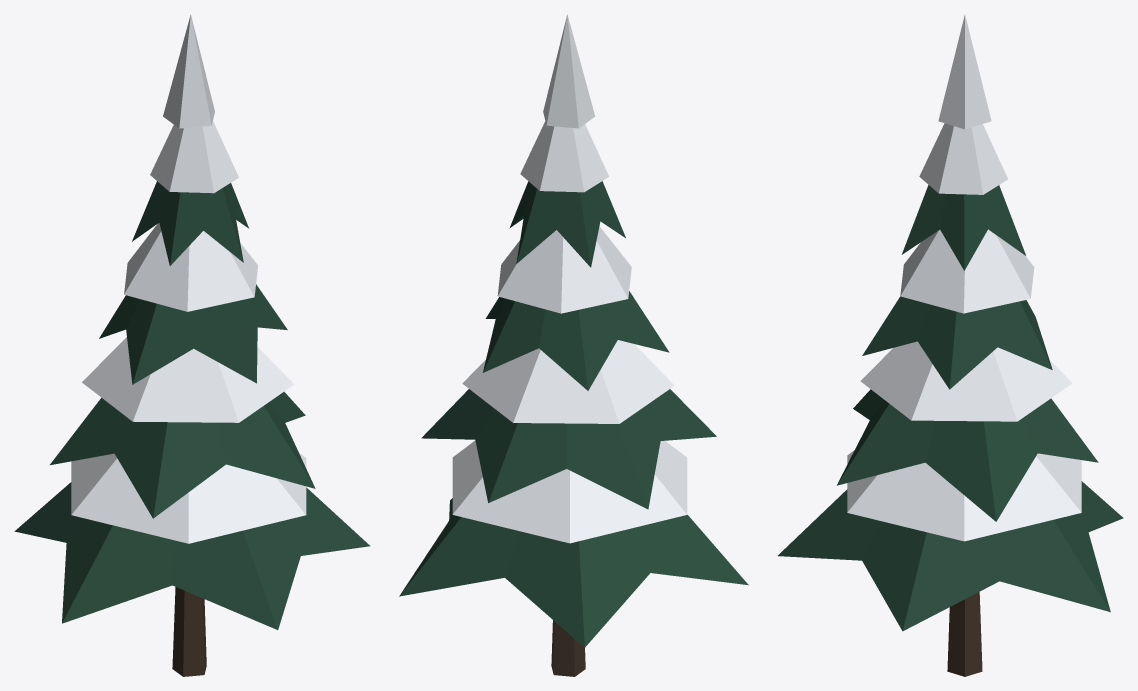
File: pine_snow_lod1.glb
The picture shows the model from 3 angles, left to right: view 1: azimuth 30°, elevation 25°; view 2: azimuth 150°, elevation 25°; view 3: azimuth 270°, elevation 25°; orthographic projection.
Parts seen in each view (by area): view 1: pine_snow_lod1; view 2: pine_snow_lod1; view 3: pine_snow_lod1.
Part boxes in pixels (x1,y1,x2,y2): pine_snow_lod1: (14, 14, 370, 676); pine_snow_lod1: (399, 14, 748, 676); pine_snow_lod1: (777, 15, 1123, 676).
Size of what is drawn, in the model's own units: 4.75 by 9.8 by 4.7.
Materials: 2 (2 with a texture image).
